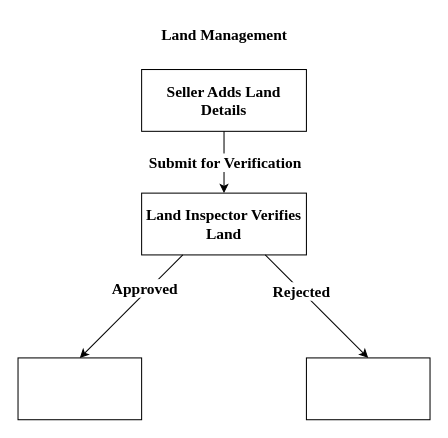
This 448x438 diagram has some shape labels left out. The shapes that lost their labels are listed below. From the top down, each one's centre as x and y in pixels, then its label:
At (79,388): "Land Verified & Listed".
At (367,388): "Feedback to Seller".
